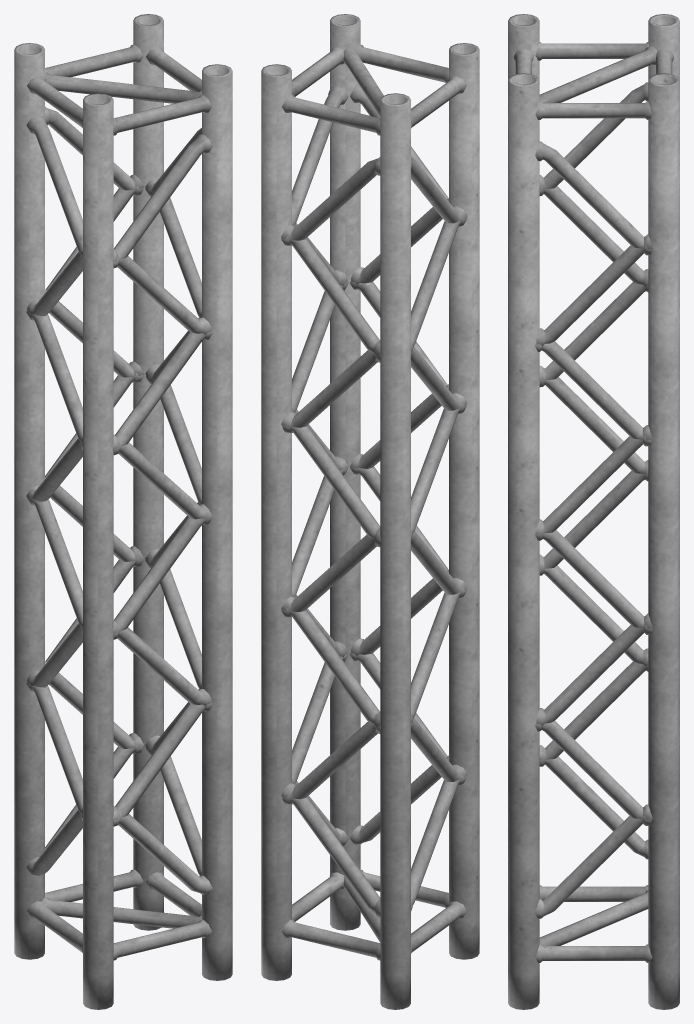
File: truss.glb
3 renders of one model, left to right at view 1: azimuth 30°, elevation 25°; view 2: azimuth 150°, elevation 25°; view 3: azimuth 270°, elevation 25°, orthographic. The views are drawn at different scales.
Visible parts, largest first — view 1: Truss; view 2: Truss; view 3: Truss.
Part boxes in pixels (x1,y1,x2,y2): Truss: (14,14,232,1009); Truss: (261,14,479,1009); Truss: (508,14,679,1009).
Bounding box in the file's own units: 0.3374 × 2 × 0.3374.
Materials: 1 (1 with a texture image).
